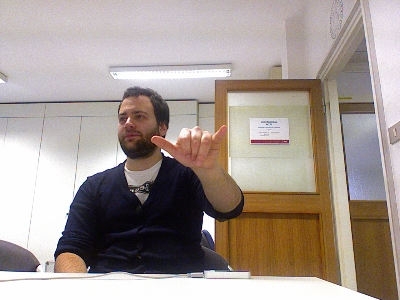六六六: (149, 123, 226, 169)
